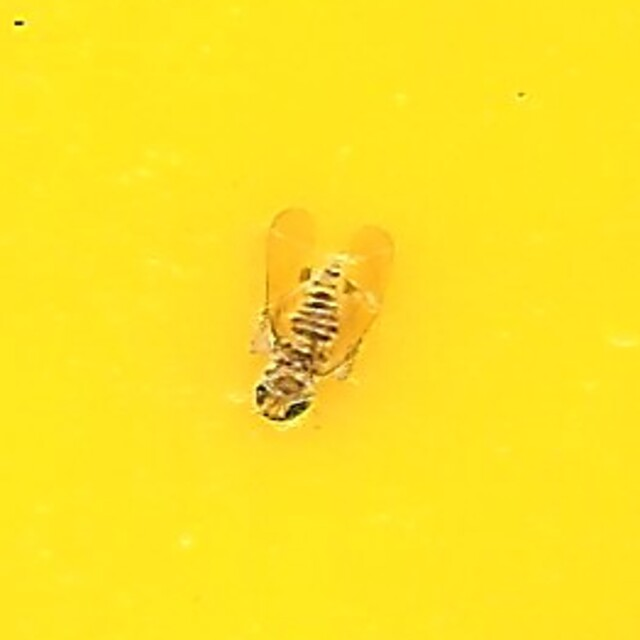Hemiptera: (244, 211, 396, 429)
